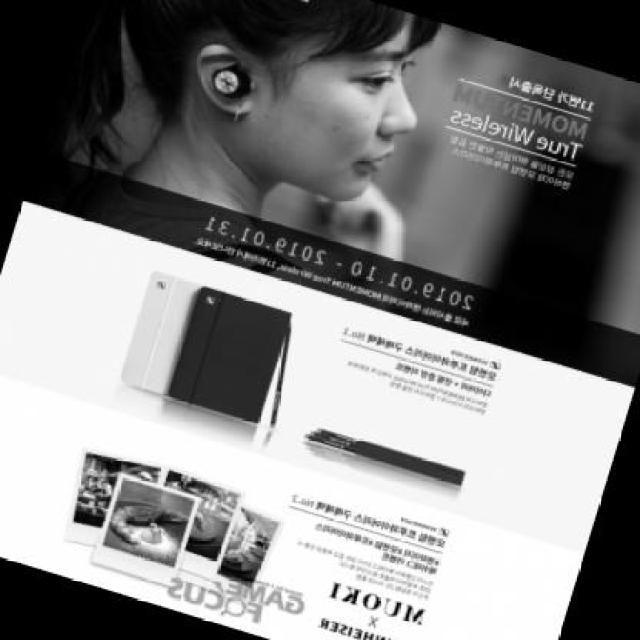earphone: (196, 62, 270, 110)
